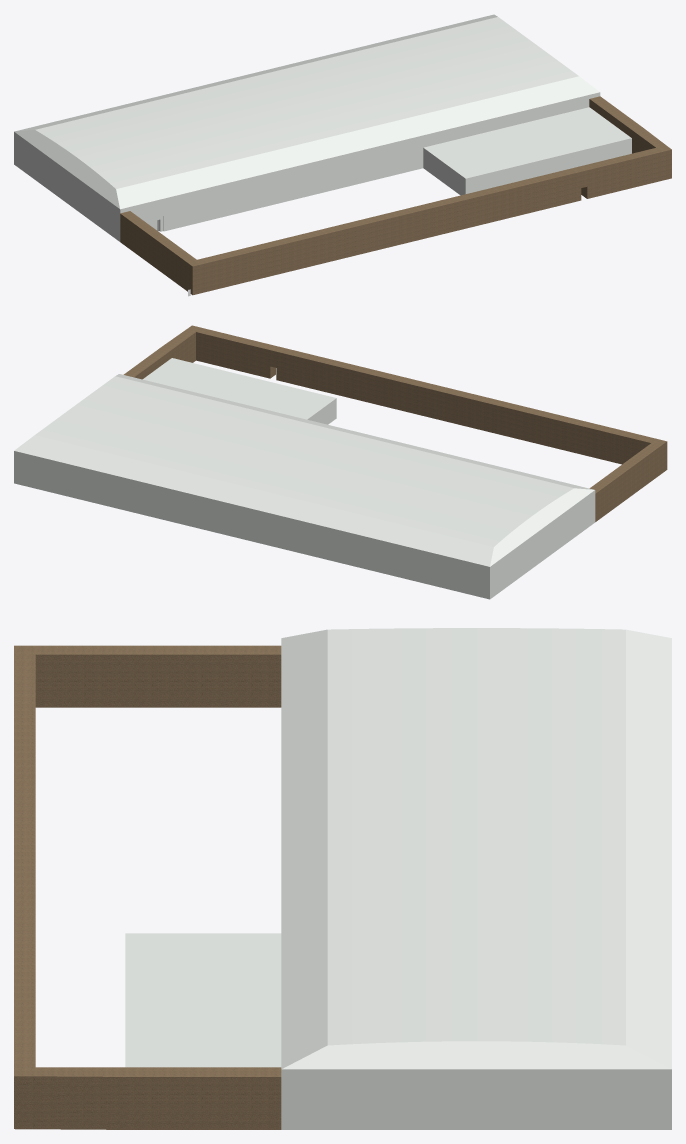
The model's file is Hetepsekhemwy_v1.glb.
3 renders of one model, top to bottom at view 1: azimuth 30°, elevation 25°; view 2: azimuth 150°, elevation 25°; view 3: azimuth 270°, elevation 25°, orthographic. The views are drawn at different scales.
Parts seen in each view (by area): view 1: Mesh1 Component_1_1 Model, Mesh2 Model; view 2: Mesh1 Component_1_1 Model, Mesh2 Model; view 3: Mesh1 Component_1_1 Model, Mesh2 Model.
Boxes of the visible parts, x1,y1,x2,y2 form: Mesh1 Component_1_1 Model: (14, 14, 599, 209); Mesh2 Model: (14, 92, 671, 295); Mesh1 Component_1_1 Model: (14, 374, 594, 566); Mesh2 Model: (14, 325, 667, 599); Mesh1 Component_1_1 Model: (281, 628, 671, 1069); Mesh2 Model: (14, 645, 671, 1129).
Bounding box in the file's own units: 123 × 10.53 × 78.8.
5 materials, 3 textured.
